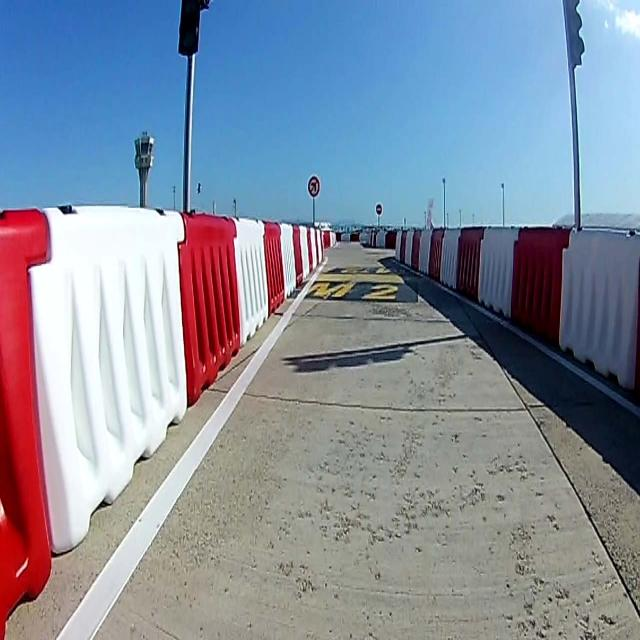girisyok: (376, 204, 382, 215)
soladonulmez: (308, 176, 319, 197)
